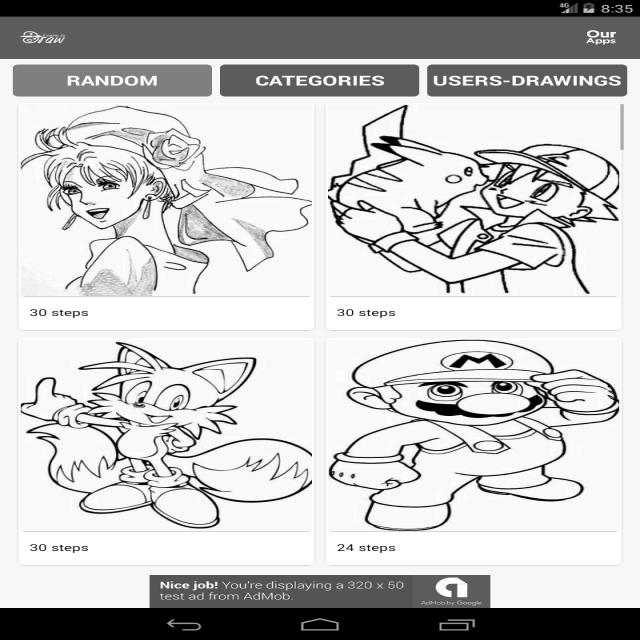Button: (429, 62, 630, 100), (7, 64, 215, 100), (226, 62, 424, 98)
ImageView: (19, 105, 312, 295), (21, 338, 311, 528), (328, 107, 614, 295), (328, 340, 606, 530)
TextView: (156, 578, 412, 604), (21, 538, 118, 562), (332, 300, 406, 322), (23, 305, 95, 323), (338, 538, 402, 558), (580, 25, 620, 47)
